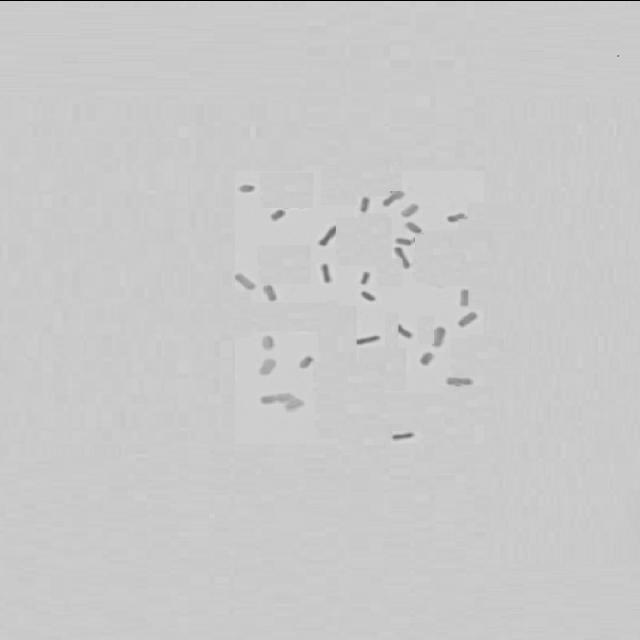E-coli: (257, 385, 298, 409), (312, 260, 337, 286), (396, 199, 424, 221), (454, 310, 484, 330), (315, 224, 340, 248), (386, 428, 422, 442), (282, 395, 308, 414), (455, 284, 475, 308), (350, 333, 384, 346), (431, 324, 449, 348), (232, 271, 256, 289), (382, 187, 407, 203), (355, 266, 377, 284), (257, 358, 280, 374), (445, 374, 475, 386), (446, 209, 470, 223), (234, 179, 256, 194), (356, 194, 374, 212), (419, 352, 439, 368), (263, 280, 279, 300), (395, 248, 411, 268), (397, 321, 413, 339), (404, 221, 424, 235), (269, 208, 291, 220), (296, 355, 316, 368), (260, 332, 276, 348), (357, 290, 380, 300), (392, 238, 414, 246)
